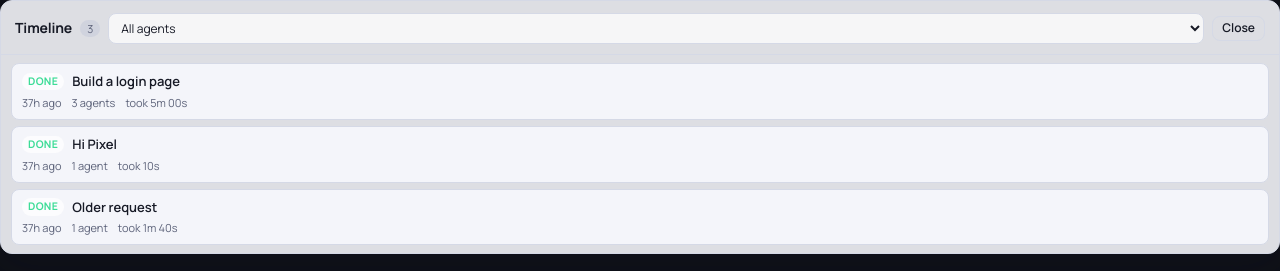
Test: Timeline panel › filters requests by an agent involved
Select "Byte" in the dropdown named "filter by agent" at point(656, 28), box [108,13,1204,44]
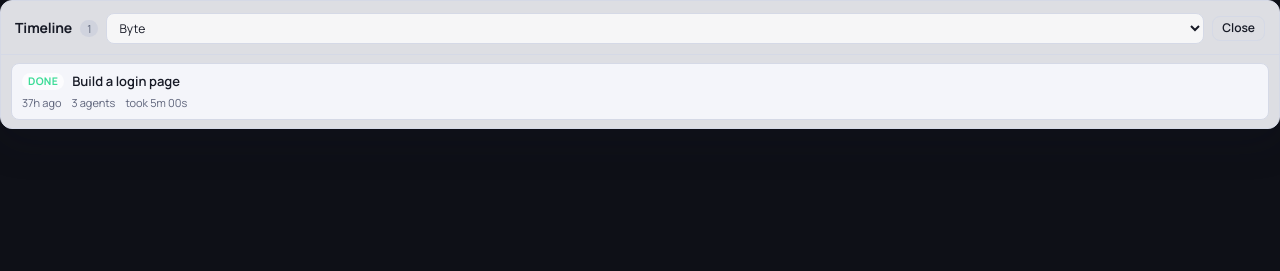
Check: the number of list items with test id "tl-entry" is 1, box [11,63,1269,120]
